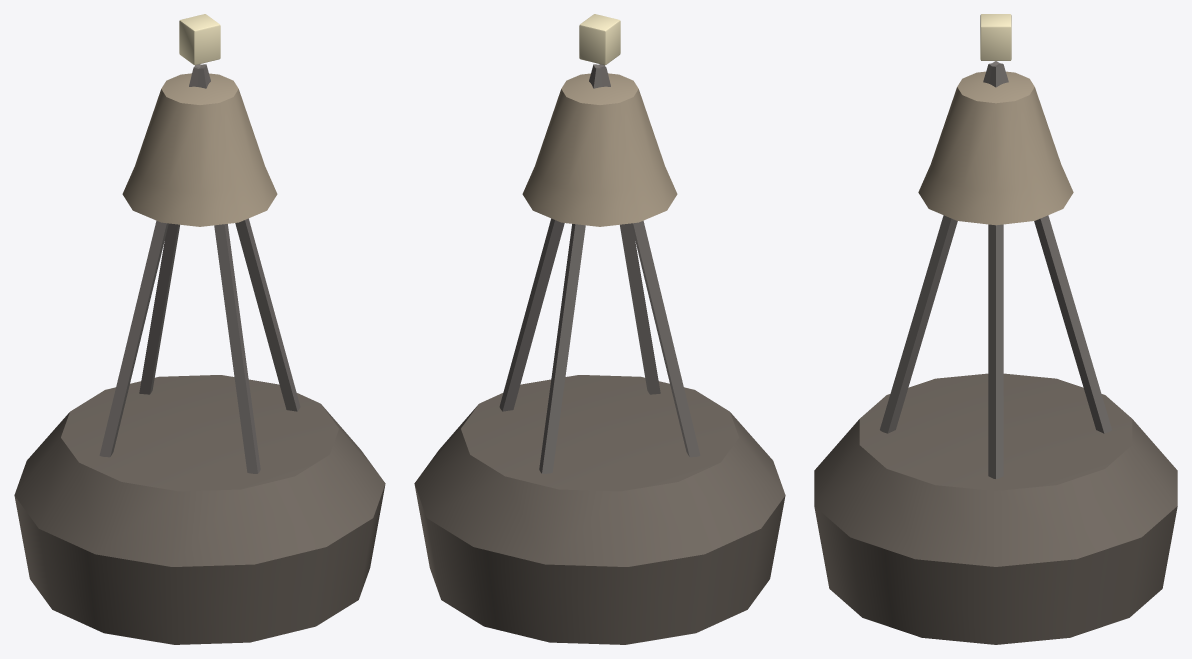
File: bell_buoy.gltf
3 views of the same model, side by side, from view 1: azimuth 30°, elevation 25°; view 2: azimuth 150°, elevation 25°; view 3: azimuth 270°, elevation 25° (orthographic).
Visible parts, largest first — view 1: Body; view 2: Body; view 3: Body.
Boxes of the visible parts, box(x1,y1,x2,y2) form: Body: box(14, 14, 385, 644); Body: box(414, 14, 785, 644); Body: box(814, 14, 1177, 644).
Size of the model in its own units: 2.4 by 4.13 by 2.34.
